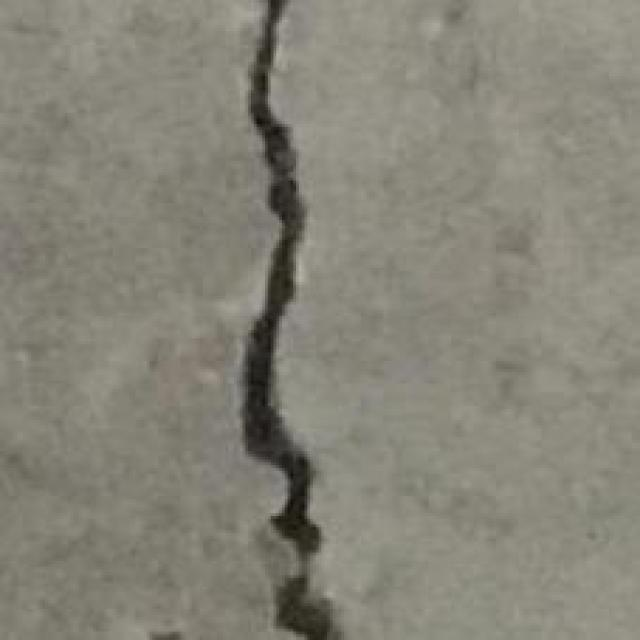Crack: (232, 0, 338, 637)
